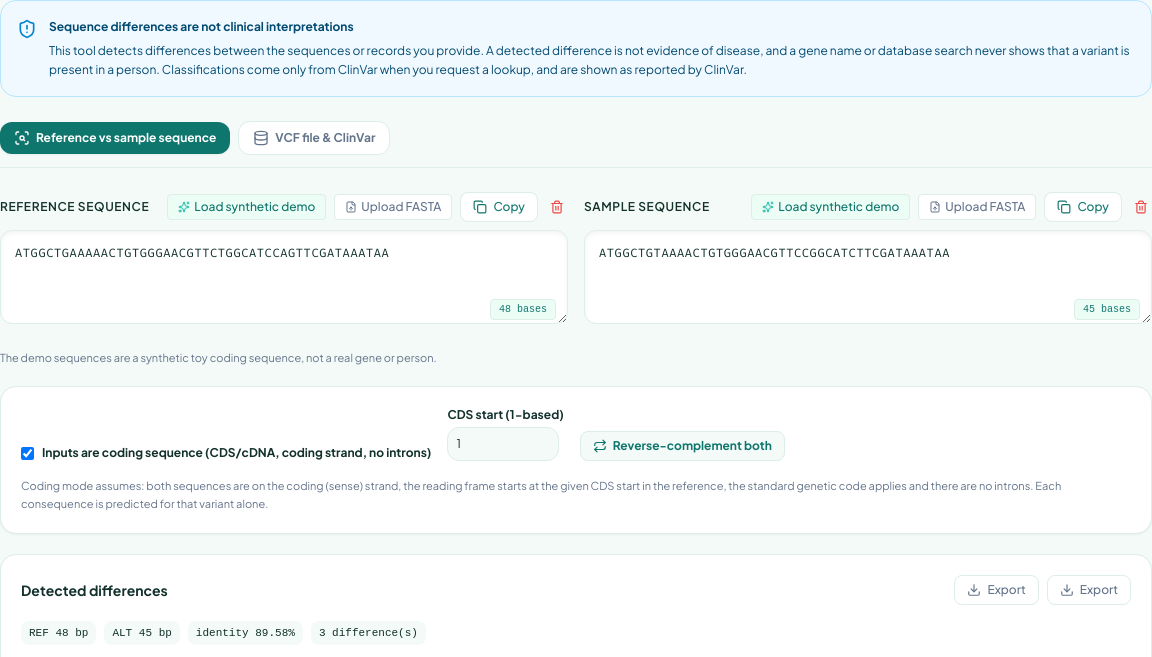
Test: ClinVar request lifecycle › cancels the in-flight request when the user presses Cancel and keeps the tool usable
Click the tab "VCF file & ClinVar": (314, 138) [238, 120, 390, 154]
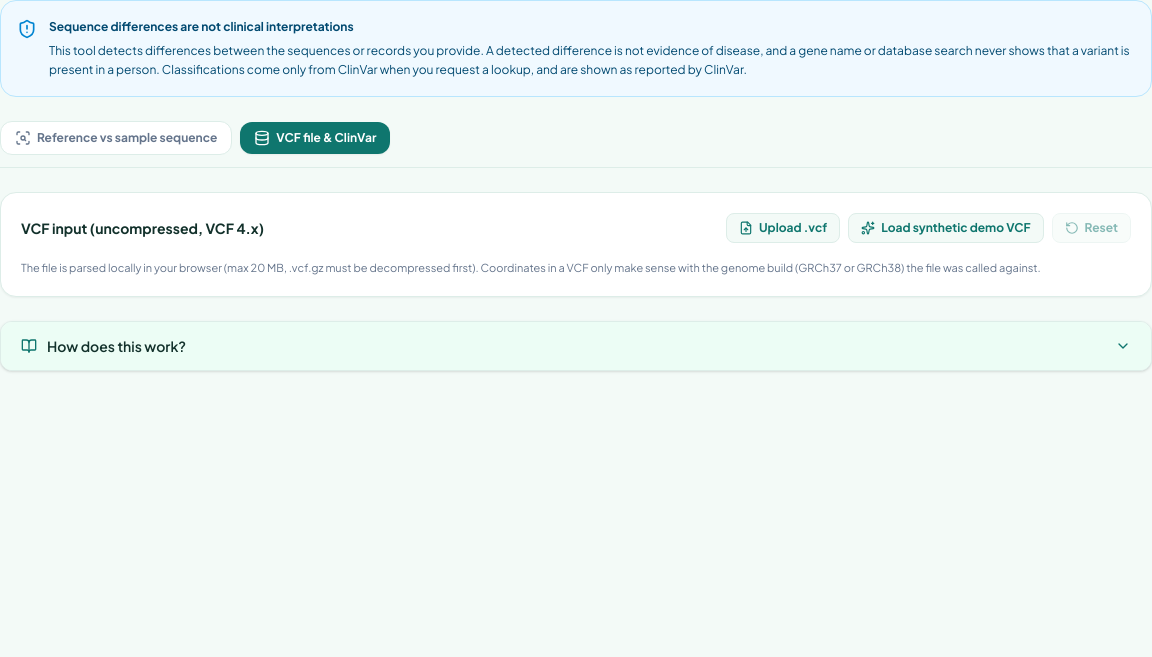
Check: the button "Load synthetic demo VCF" is shown
Click the button "Load synthetic demo VCF": (946, 228) [848, 212, 1044, 242]
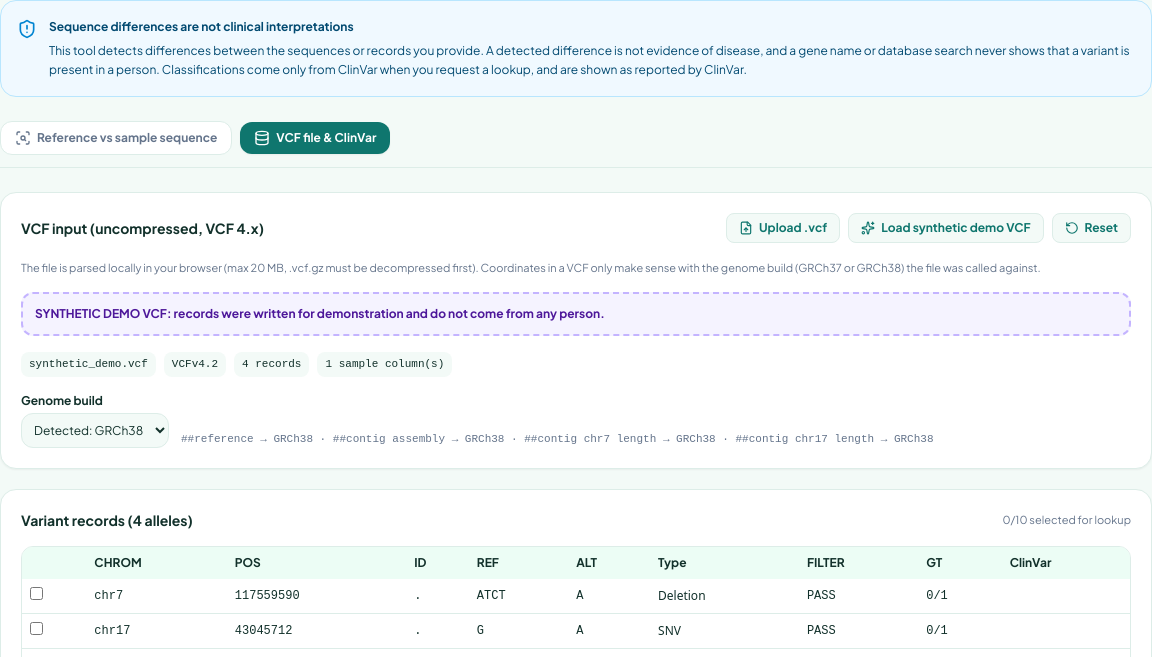
Click the checkbox named "Select ": (36, 593) [30, 587, 43, 600]
(page scrolled)
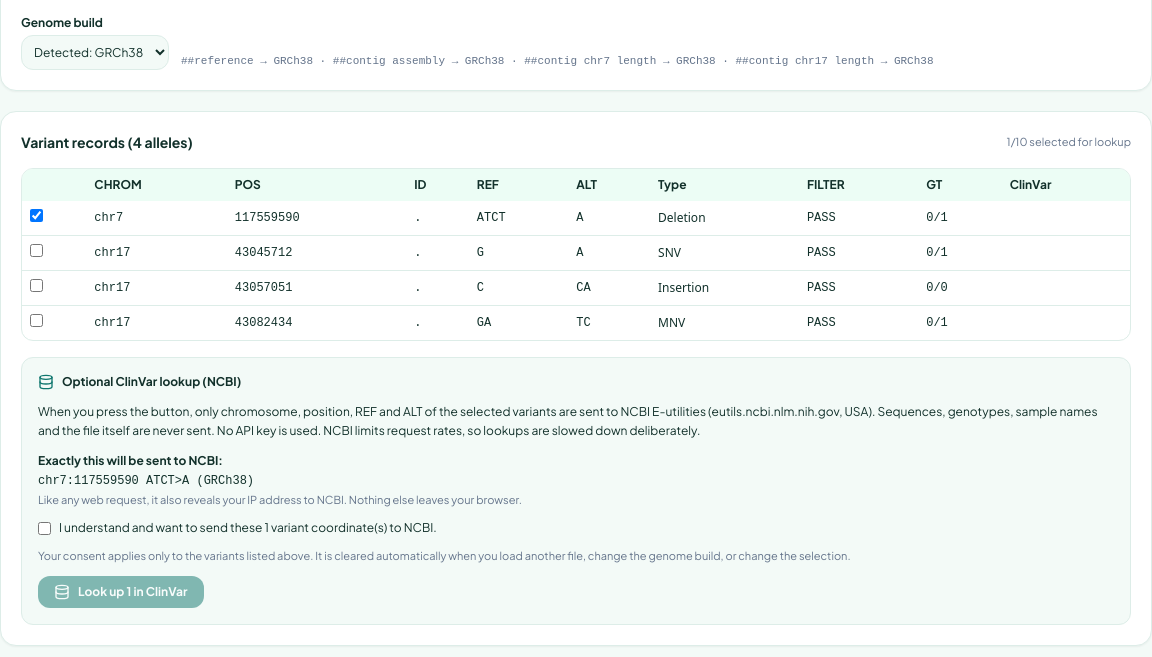
Click the checkbox labelled "I understand and want to send": (44, 528) [38, 522, 51, 534]
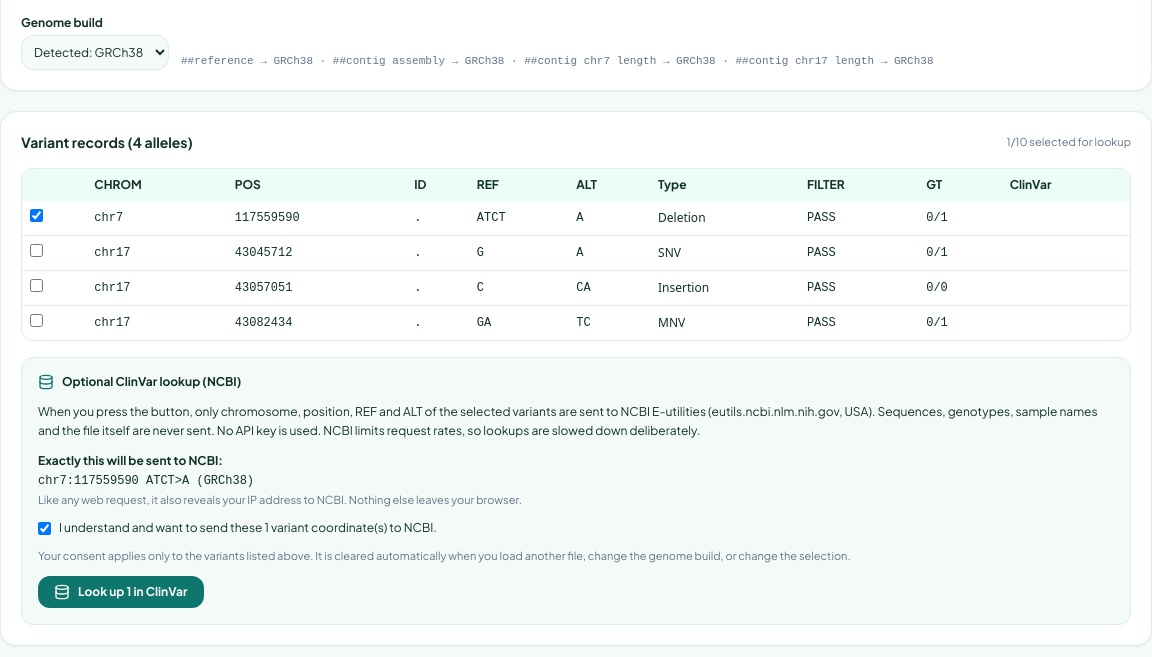
Click the button "Look up 1 in ClinVar": (121, 592) [38, 576, 204, 608]
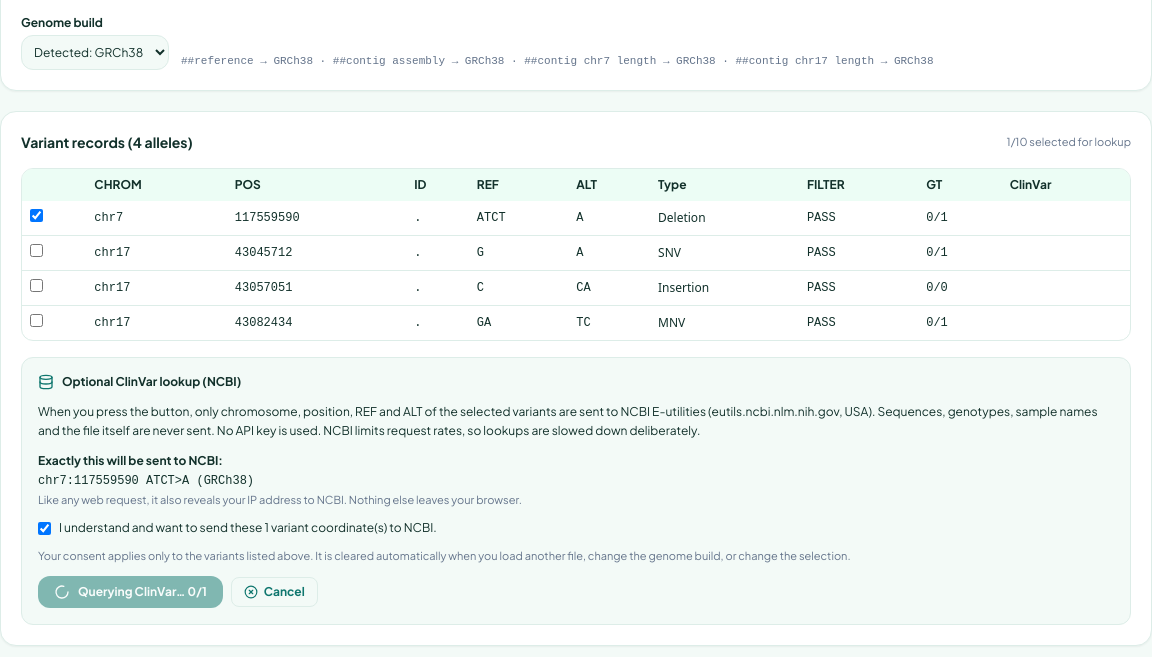
Click the button "Cancel": (274, 592) [231, 577, 318, 607]
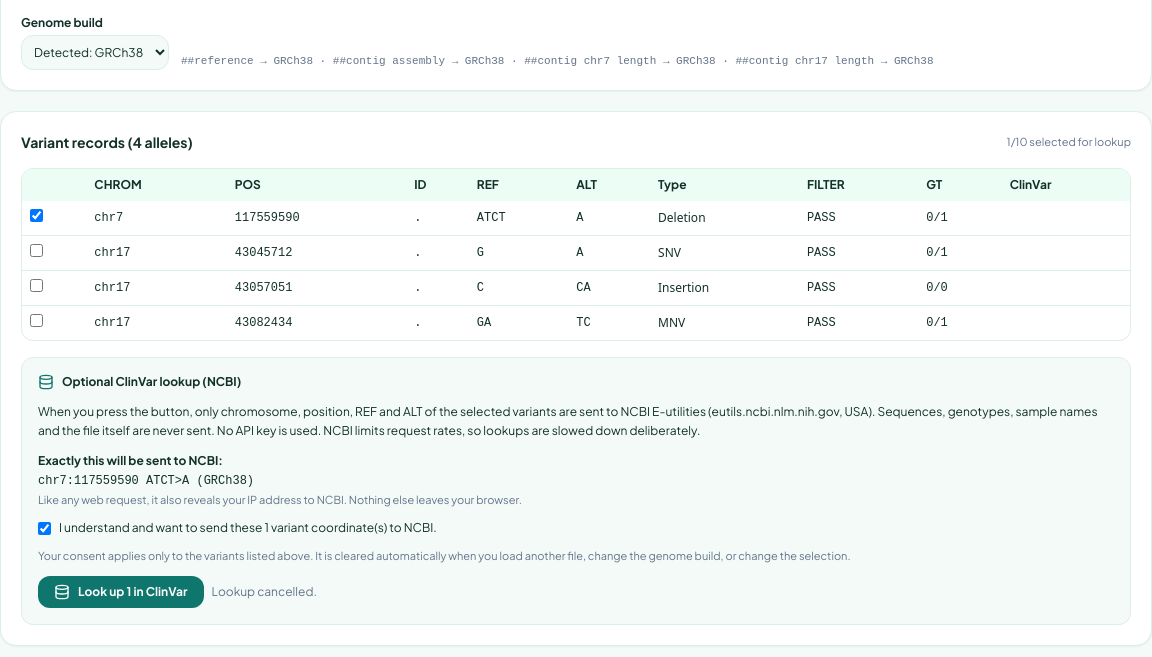
Check: the text "Lookup cancelled." is shown, box [212, 584, 317, 600]
Check: the button "Look up 1 in ClinVar" is enabled, box [38, 576, 204, 608]
